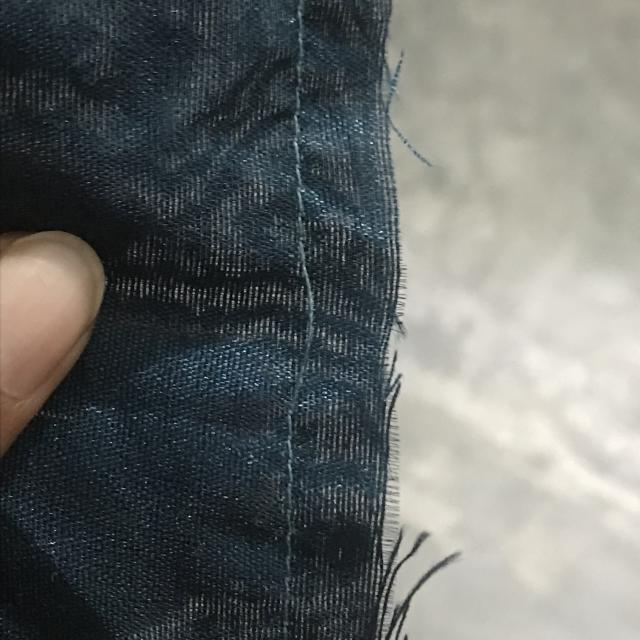skip: (264, 220, 334, 417)
